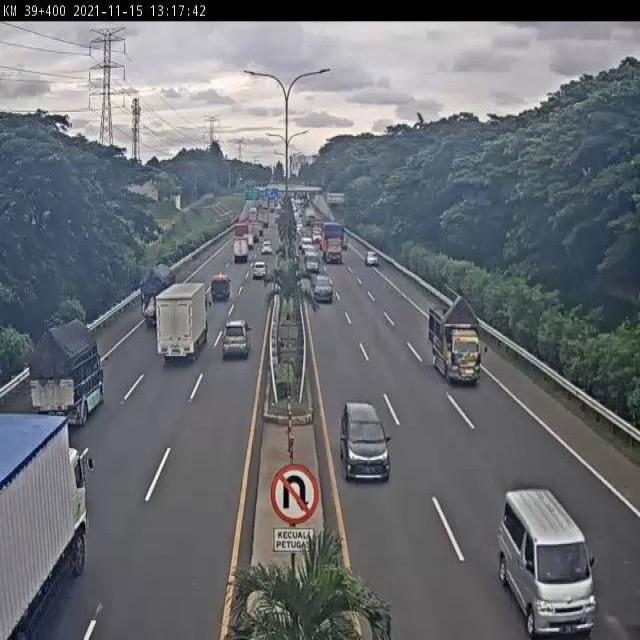bus-s-: (495, 490, 602, 640)
car: (341, 399, 391, 485), (221, 319, 252, 360), (313, 272, 335, 305), (304, 250, 323, 274), (364, 247, 381, 269), (252, 259, 267, 280)
truck-m-: (0, 410, 90, 640), (26, 316, 104, 427), (427, 289, 483, 387), (155, 280, 208, 364), (140, 260, 176, 328), (321, 220, 346, 265)
truck-s-: (209, 273, 231, 303)
